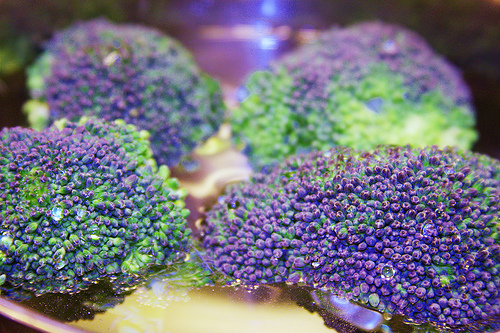broccoli: (200, 141, 499, 332), (0, 110, 195, 309), (224, 20, 499, 140), (22, 17, 225, 161)
